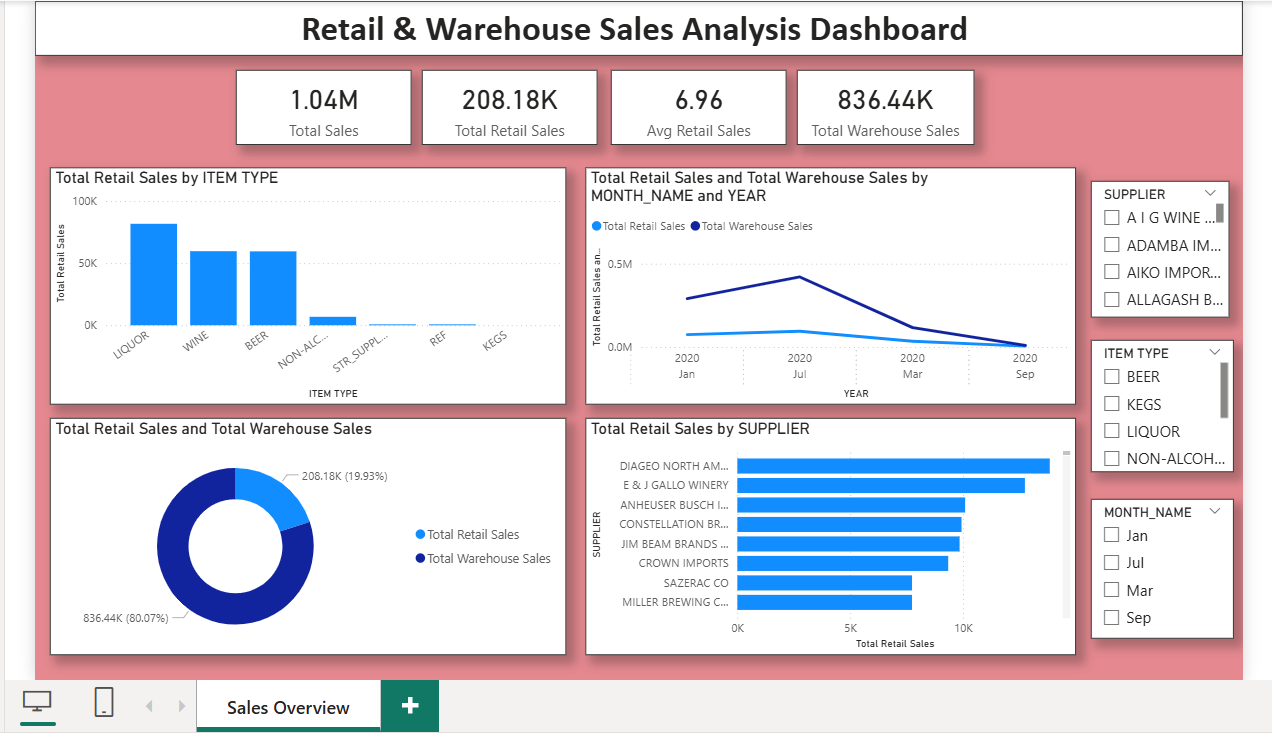

Layout of this report page (visuals, bound fields, positions):
{"tool":"powerbi","page":{"name":"Sales Overview","canvas":[1280,720],"ordinal":0},"visuals":[{"type":"textbox","box":[0,0,1280.8,58.3],"z":0},{"type":"clusteredColumnChart","fields":{"Category":["retail_cleaned.ITEM TYPE"],"Y":["DAX Measures.Total Retail Sales"]},"box":[15.9,176.6,547.2,251.3],"z":1000},{"type":"lineChart","fields":{"Y":["DAX Measures.Total Retail Sales","DAX Measures.Total Warehouse Sales"],"Category":["retail_cleaned.MONTH_NAME","retail_cleaned.YEAR"]},"box":[583.8,176.6,520.1,251.3],"z":2000},{"type":"donutChart","fields":{"Y":["DAX Measures.Total Retail Sales","DAX Measures.Total Warehouse Sales"]},"box":[15.9,442.2,547.2,251.3],"z":3000},{"type":"clusteredBarChart","fields":{"Category":["retail_cleaned.SUPPLIER"],"Y":["DAX Measures.Total Retail Sales"]},"box":[583.8,442.2,520.1,251.3],"z":4000},{"type":"slicer","fields":{"Values":["retail_cleaned.MONTH_NAME"]},"box":[1119.8,528.1,151.1,147.9],"z":5000},{"type":"card","fields":{"Values":["DAX Measures.Total Sales"]},"box":[213.7,72.9,186.2,79.3],"z":6000},{"type":"card","fields":{"Values":["DAX Measures.Total Retail Sales"]},"box":[409.7,72.9,186.2,79.3],"z":7000},{"type":"card","fields":{"Values":["DAX Measures.Avg Retail Sales"]},"box":[610.4,72.9,186.2,79.3],"z":8000},{"type":"card","fields":{"Values":["DAX Measures.Total Warehouse Sales"]},"box":[808,73.2,187.7,79.5],"z":9000},{"type":"slicer","fields":{"Values":["retail_cleaned.SUPPLIER"]},"box":[1119.8,190.9,146.3,144.7],"z":10000},{"type":"slicer","fields":{"Values":["retail_cleaned.ITEM TYPE"]},"box":[1119.8,359.5,151.1,140],"z":11000}]}

Visuals, with their boxes in screenshot pixels (x1, y1, x2, y2):
textbox: x1=30, y1=0, x2=1241, y2=52
clusteredColumnChart - retail_cleaned.ITEM TYPE x DAX Measures.Total Retail Sales: x1=45, y1=164, x2=562, y2=401
lineChart - DAX Measures.Total Retail Sales x DAX Measures.Total Warehouse Sales: x1=582, y1=164, x2=1073, y2=401
donutChart - DAX Measures.Total Retail Sales x DAX Measures.Total Warehouse Sales: x1=45, y1=415, x2=562, y2=652
clusteredBarChart - retail_cleaned.SUPPLIER x DAX Measures.Total Retail Sales: x1=582, y1=415, x2=1073, y2=652
slicer - retail_cleaned.MONTH_NAME: x1=1088, y1=496, x2=1231, y2=636
card - DAX Measures.Total Sales: x1=232, y1=66, x2=408, y2=141
card - DAX Measures.Total Retail Sales: x1=417, y1=66, x2=593, y2=141
card - DAX Measures.Avg Retail Sales: x1=607, y1=66, x2=783, y2=141
card - DAX Measures.Total Warehouse Sales: x1=794, y1=66, x2=971, y2=141
slicer - retail_cleaned.SUPPLIER: x1=1088, y1=177, x2=1227, y2=314
slicer - retail_cleaned.ITEM TYPE: x1=1088, y1=337, x2=1231, y2=469
